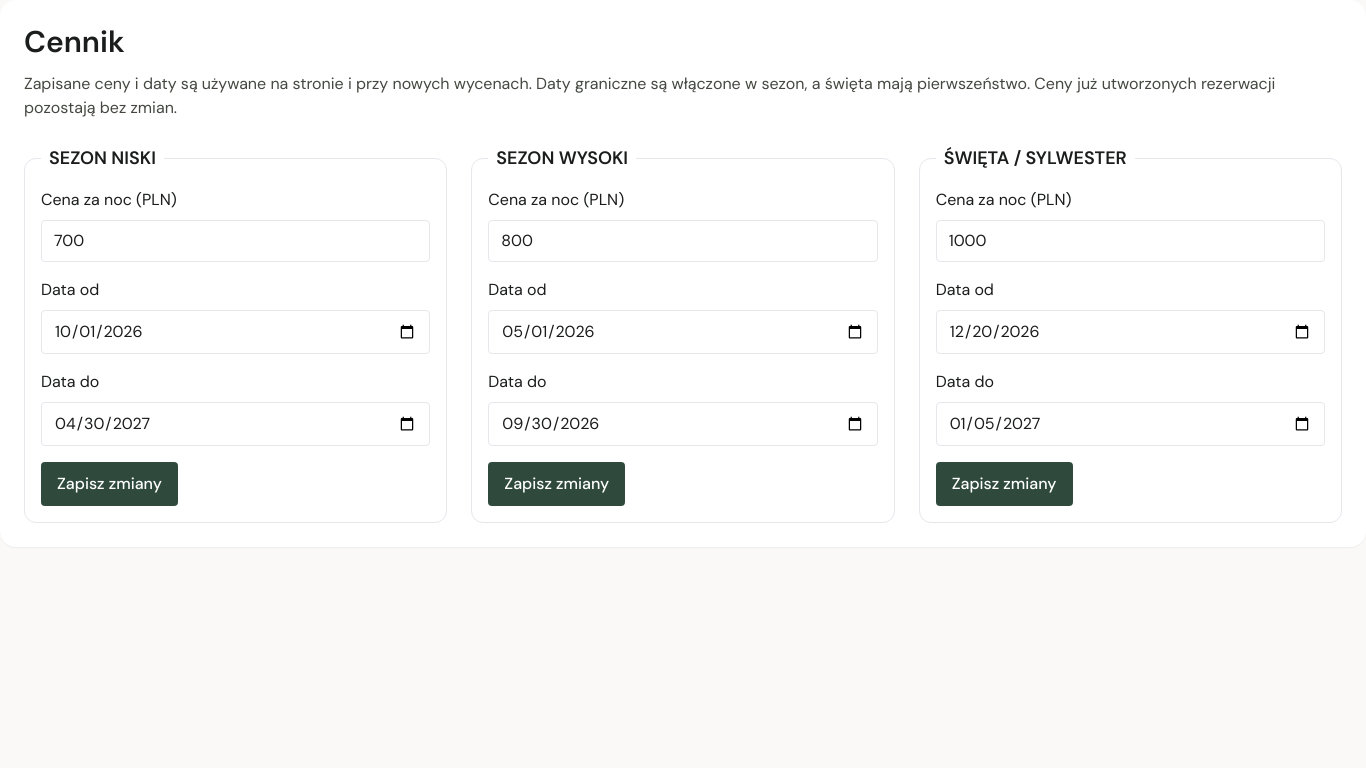
Test: admin seasonal pricing editor › rejects invalid price 0 without sending it
This screenshot has width=1366, height=768.
Replace the text in the field labelled "Cena za noc (PLN)" below "SEZON NISKI" with "0" at (236, 241), box [41, 220, 430, 262]
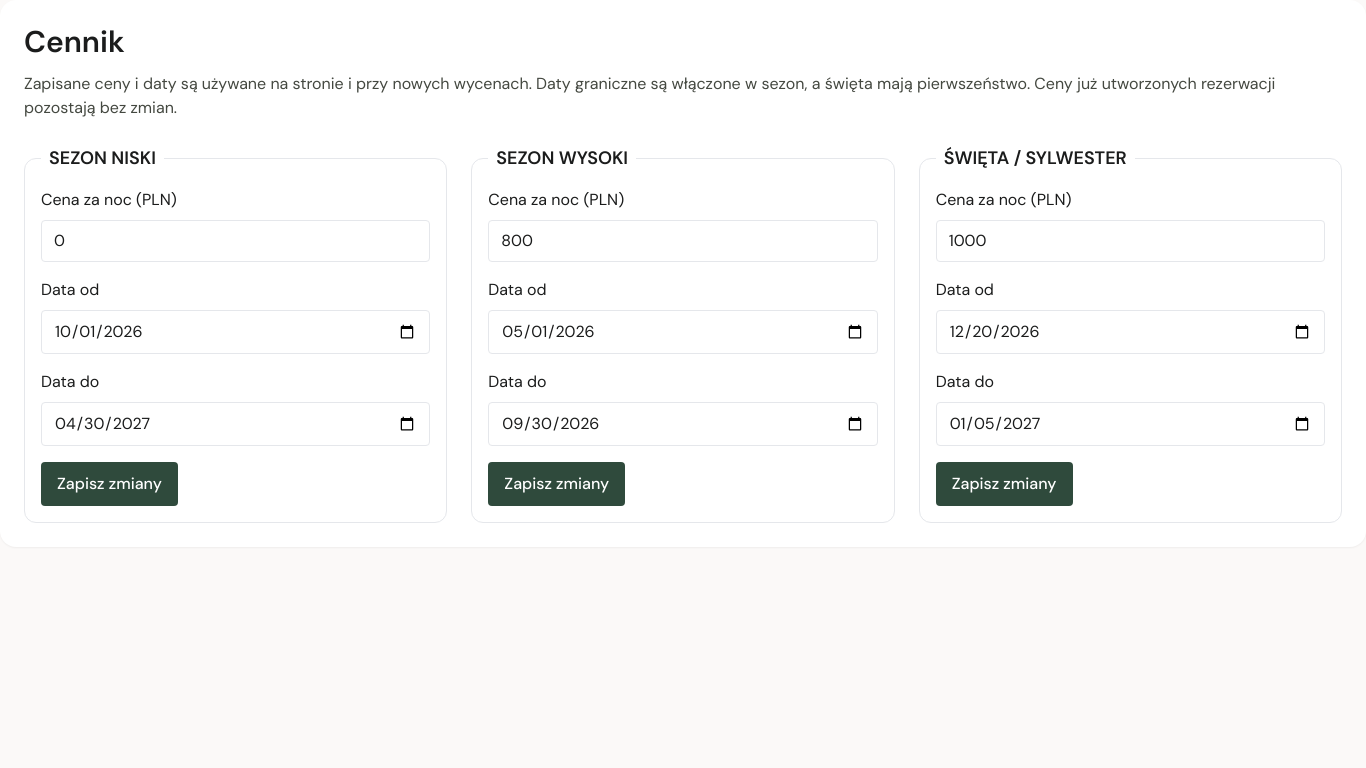
Click the button "Zapisz zmiany" below "SEZON NISKI" at (109, 484), box [41, 462, 178, 506]
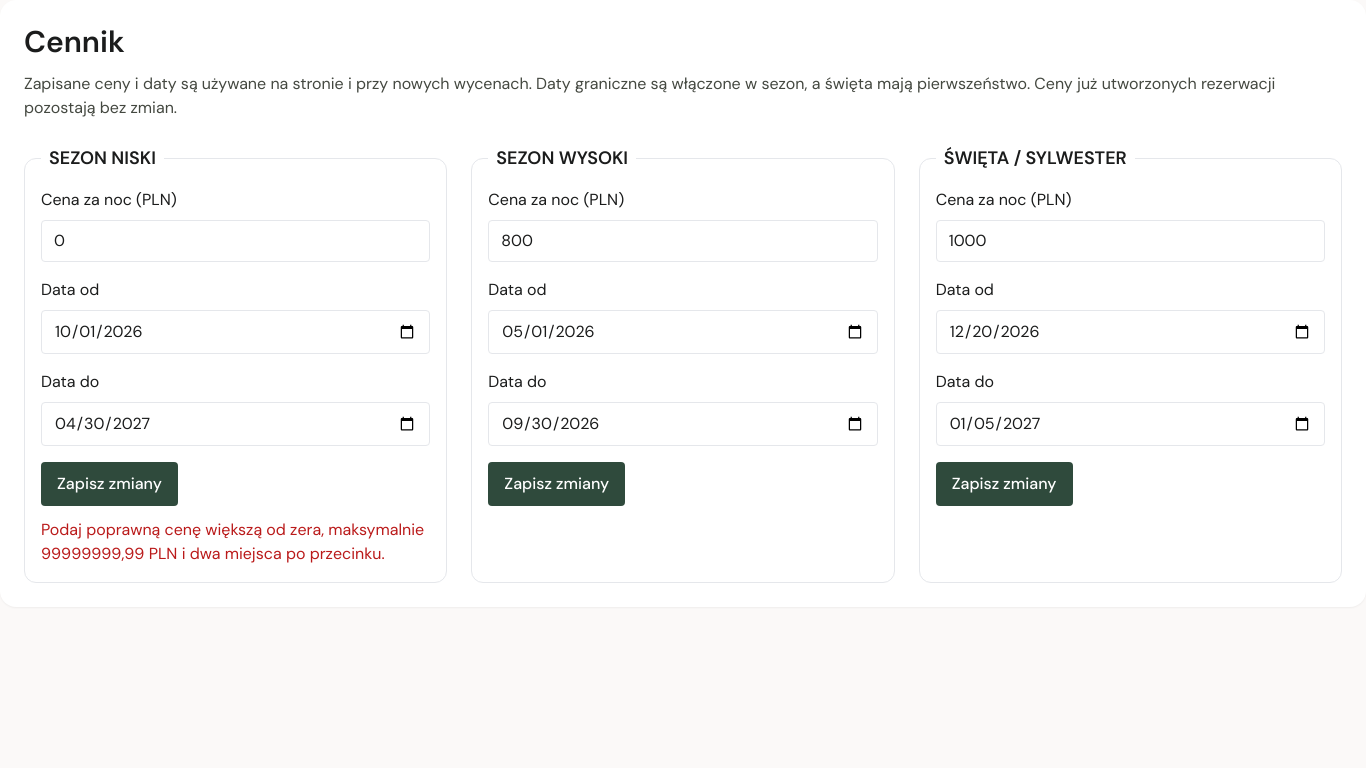
Check: the message shows "Podaj poprawną cenę", box [41, 519, 424, 564]
